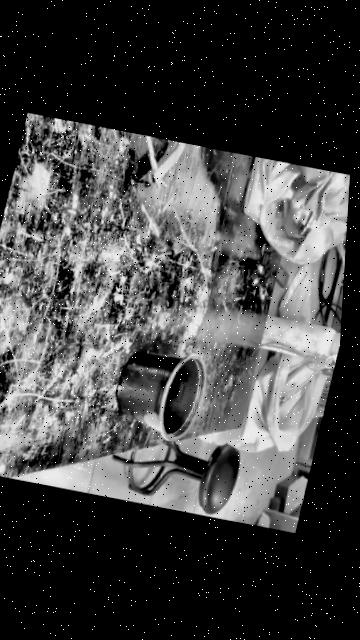pot: (106, 343, 211, 445)
